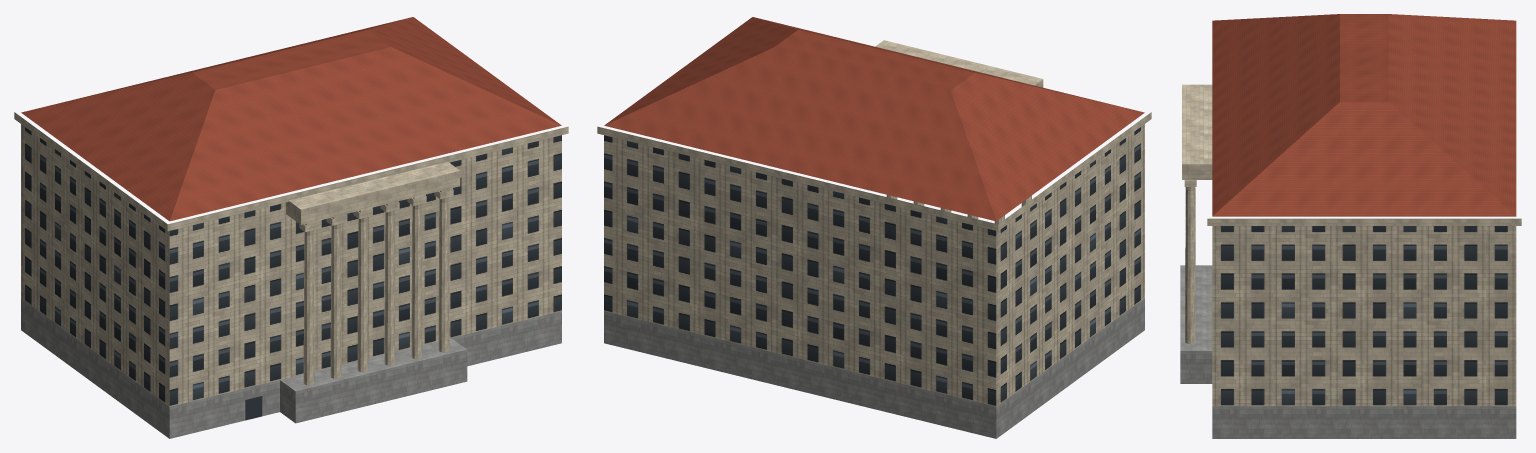
Rendered from dc_fed_colonnade.glb.
3 renders of one model, left to right at view 1: azimuth 30°, elevation 25°; view 2: azimuth 150°, elevation 25°; view 3: azimuth 270°, elevation 25°, orthographic. The views are drawn at different scales.
Parts seen in each view (by area): view 1: dc_fed_colonnade; view 2: dc_fed_colonnade; view 3: dc_fed_colonnade.
Boxes of the visible parts, bbox=[...] form: dc_fed_colonnade: bbox=[14, 17, 568, 438]; dc_fed_colonnade: bbox=[597, 17, 1151, 438]; dc_fed_colonnade: bbox=[1180, 14, 1521, 438].
Size of the model in its own units: 65.4 by 43.14 by 47.1.
Materials: 5 (5 with a texture image).
